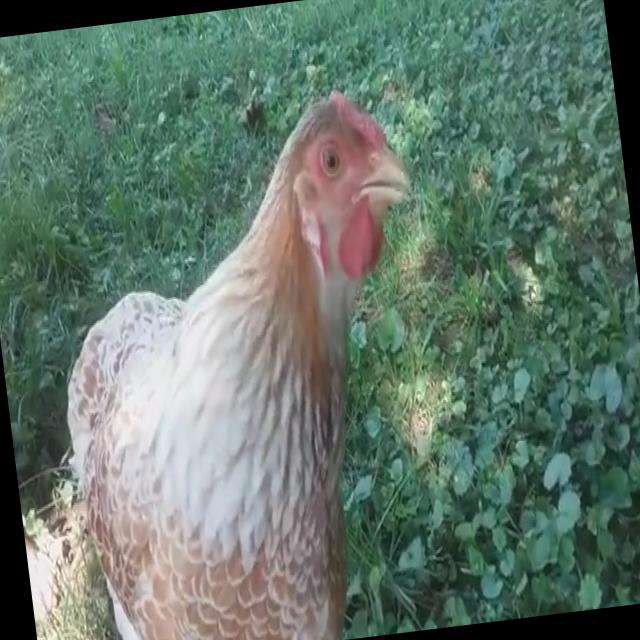Breathing: (28, 79, 465, 640)
